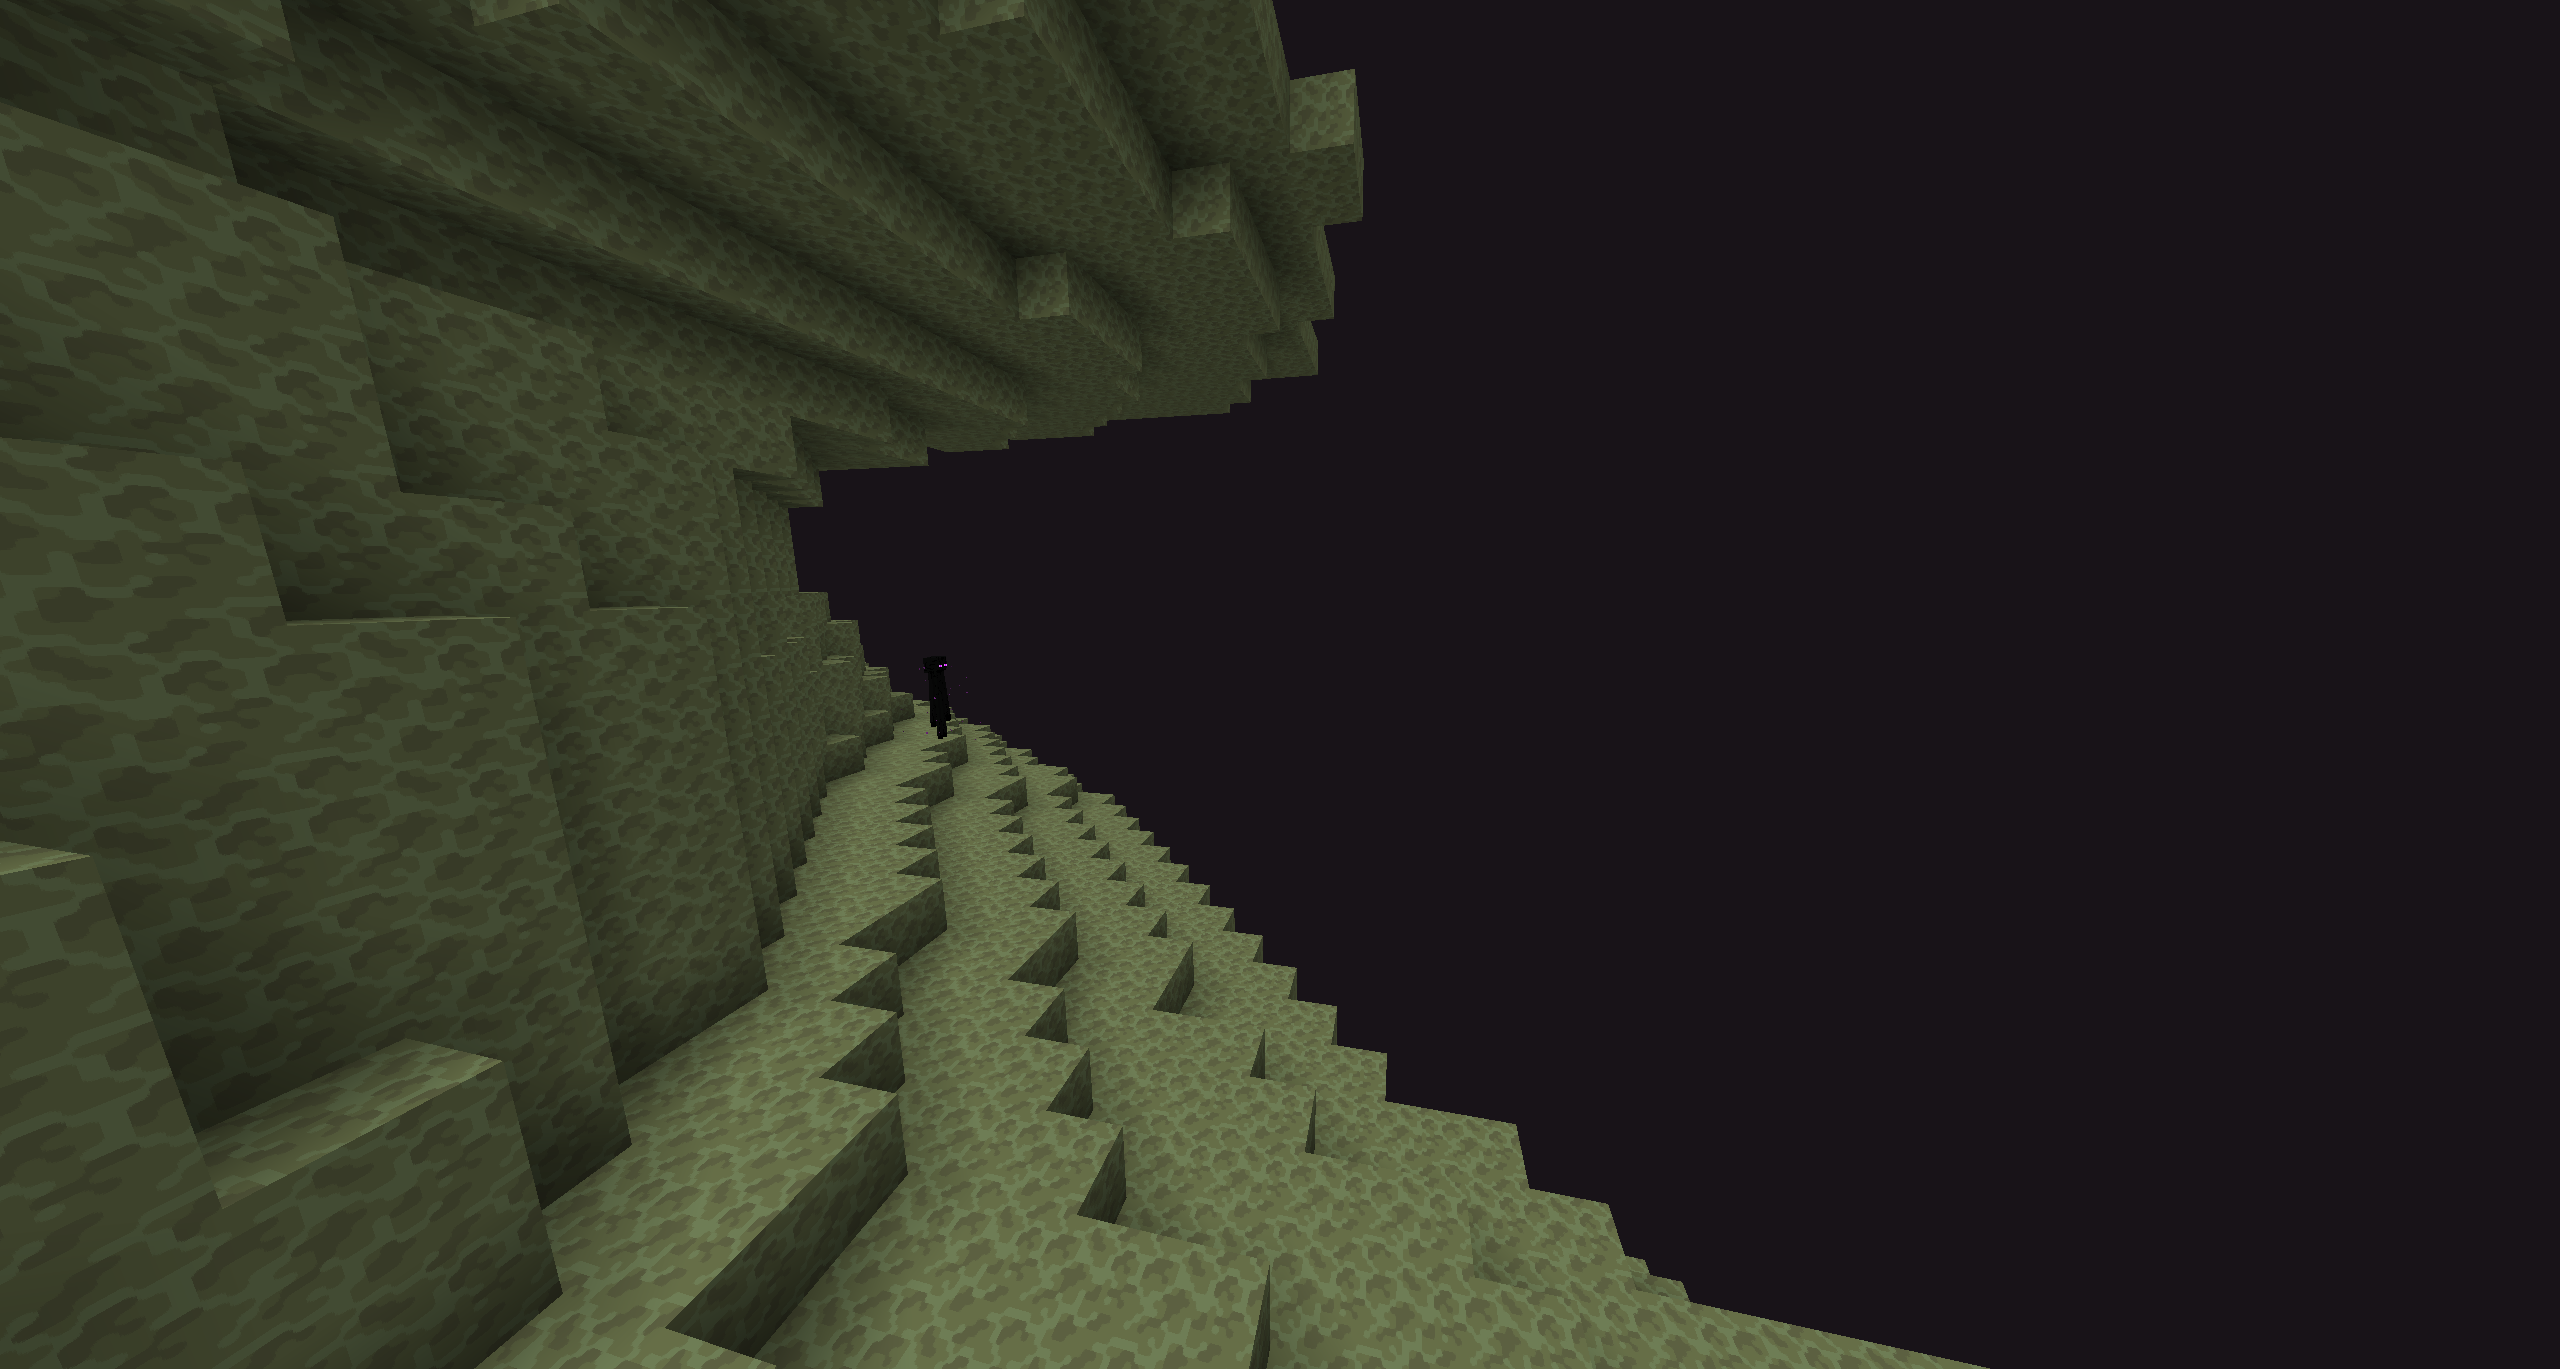enderman: (923, 653, 955, 741)
